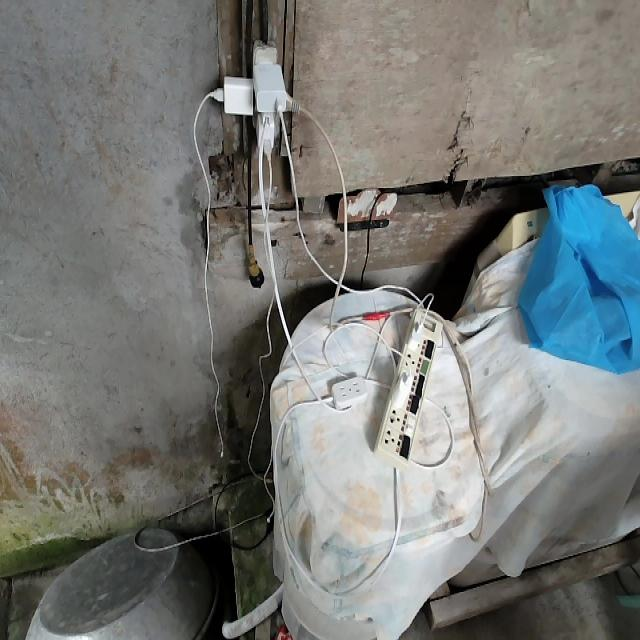-: (199, 31, 311, 177)
